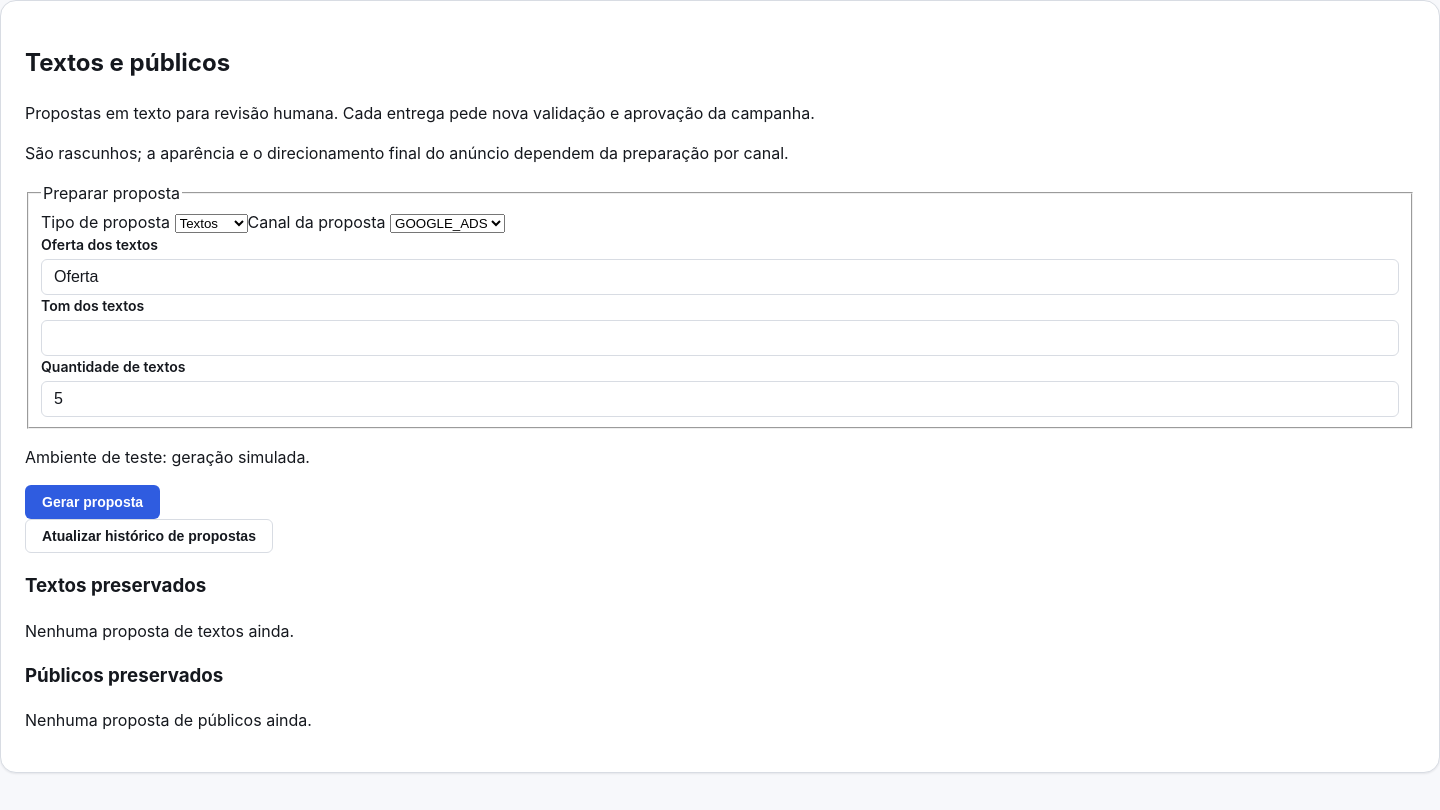
CreativeProposalsPanel › a terminal no-delivery result unlocks a previously uncertain proposal
Expected: the text "Ambiente de teste: geração simulada." is shown, top-left (25, 447), bottom-right (310, 467)
Step 1. Type "direto" into the field labelled "Tom dos textos" → {"x": 720, "y": 338}, box top-left (41, 320), bottom-right (1399, 356)
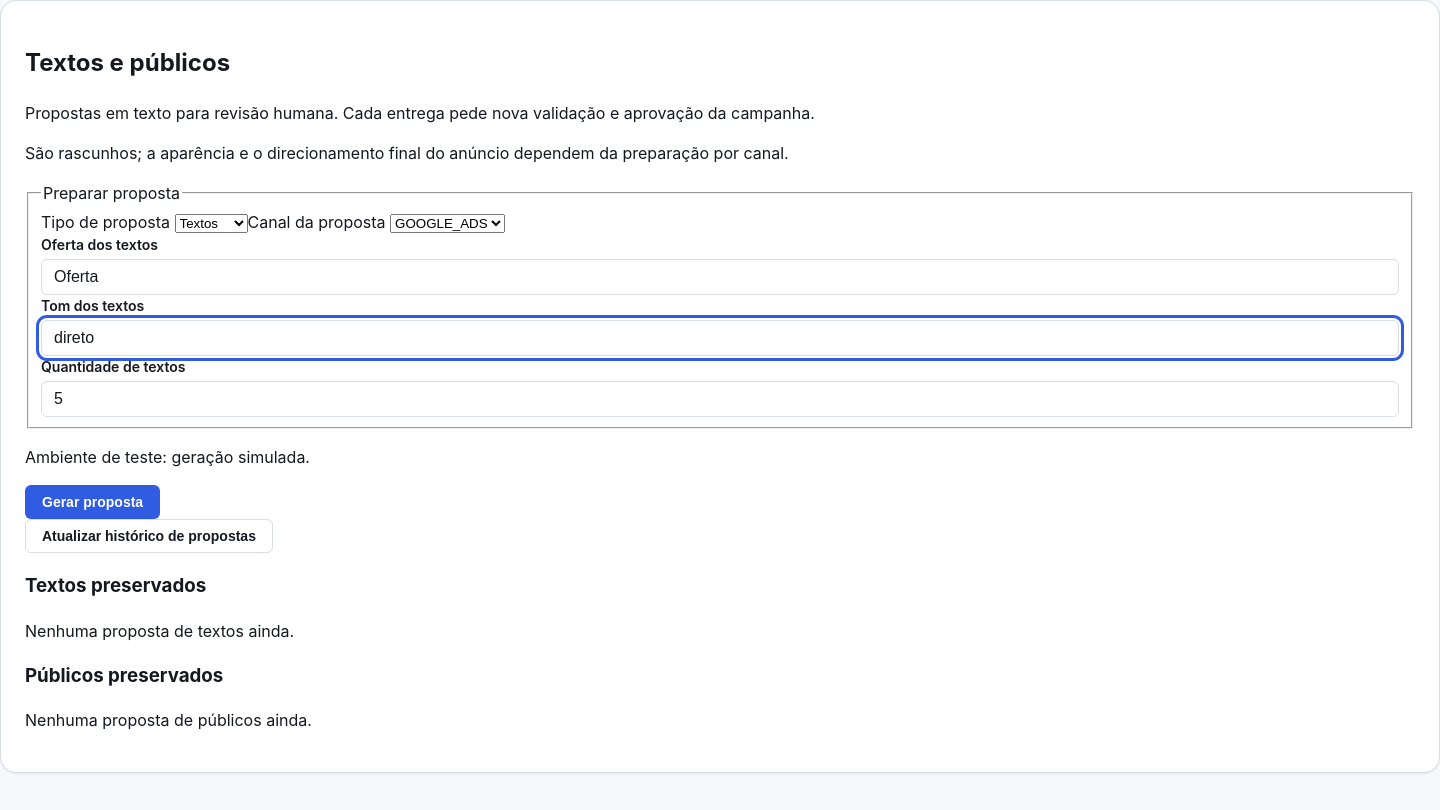
Step 2. Click the button "Gerar proposta" → {"x": 93, "y": 502}, box top-left (25, 485), bottom-right (160, 519)
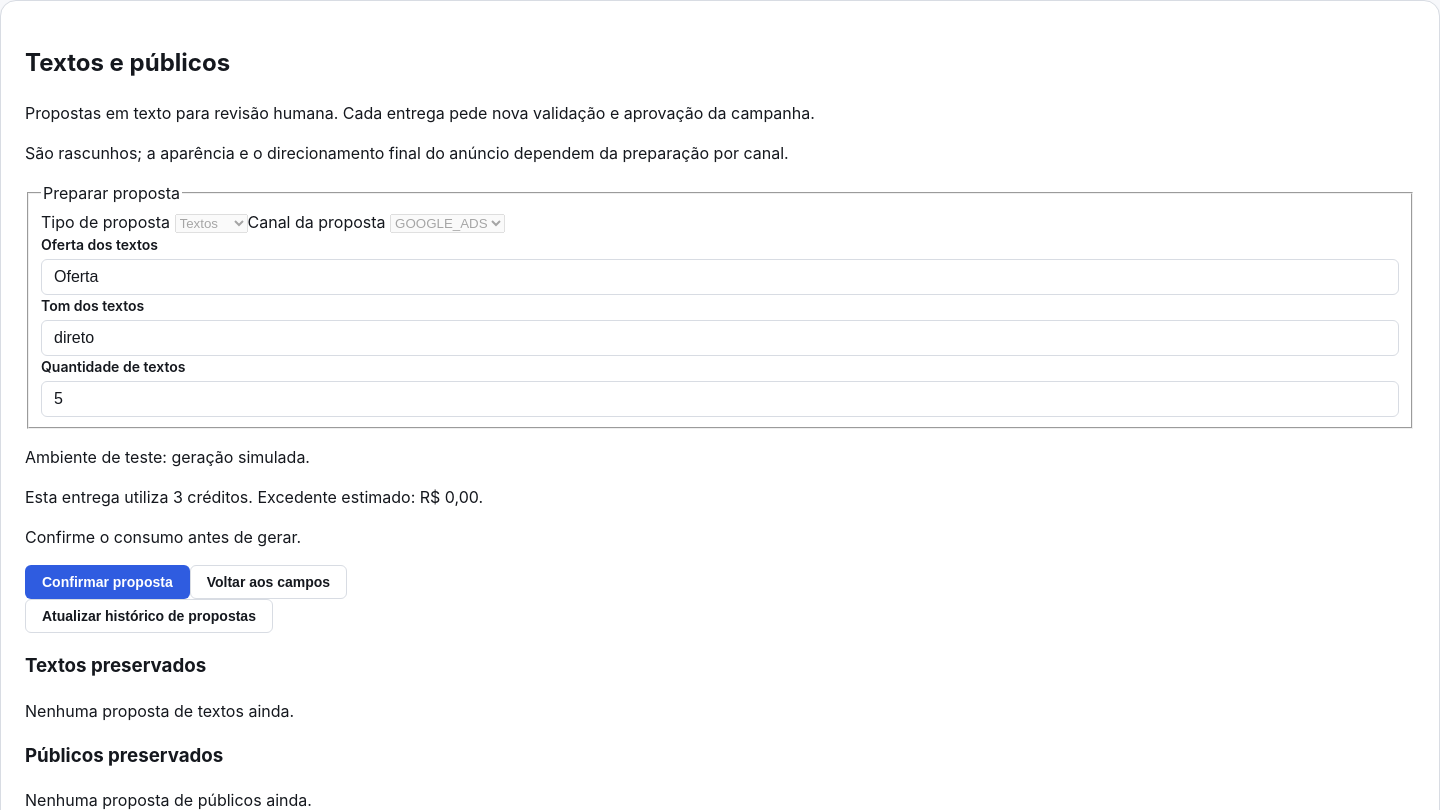
Step 3. Click the button "Confirmar proposta" → {"x": 107, "y": 582}, box top-left (25, 565), bottom-right (190, 599)
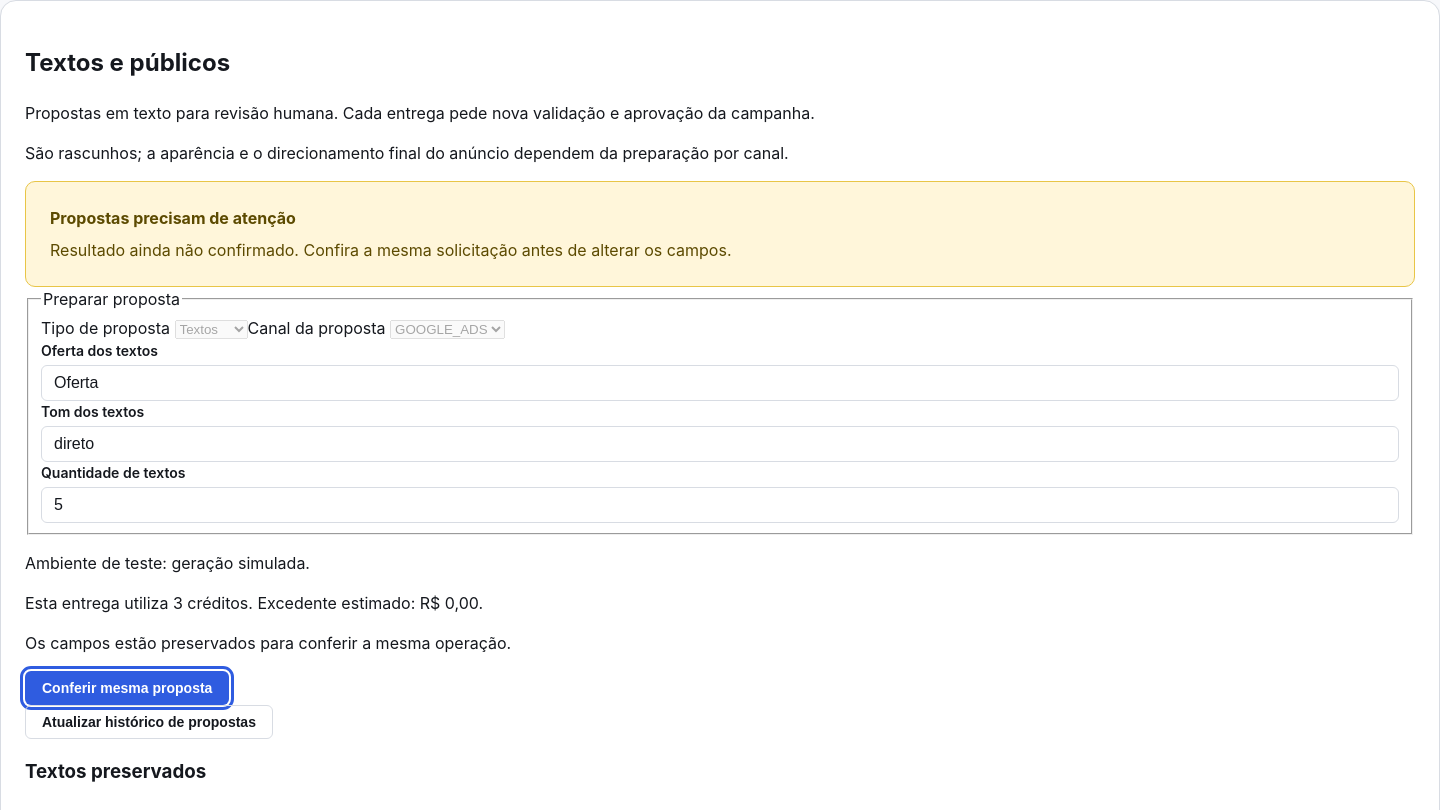
Expected: the button "Conferir mesma proposta" is shown
Step 4. Click the button "Conferir mesma proposta" → {"x": 127, "y": 688}, box top-left (25, 671), bottom-right (229, 705)
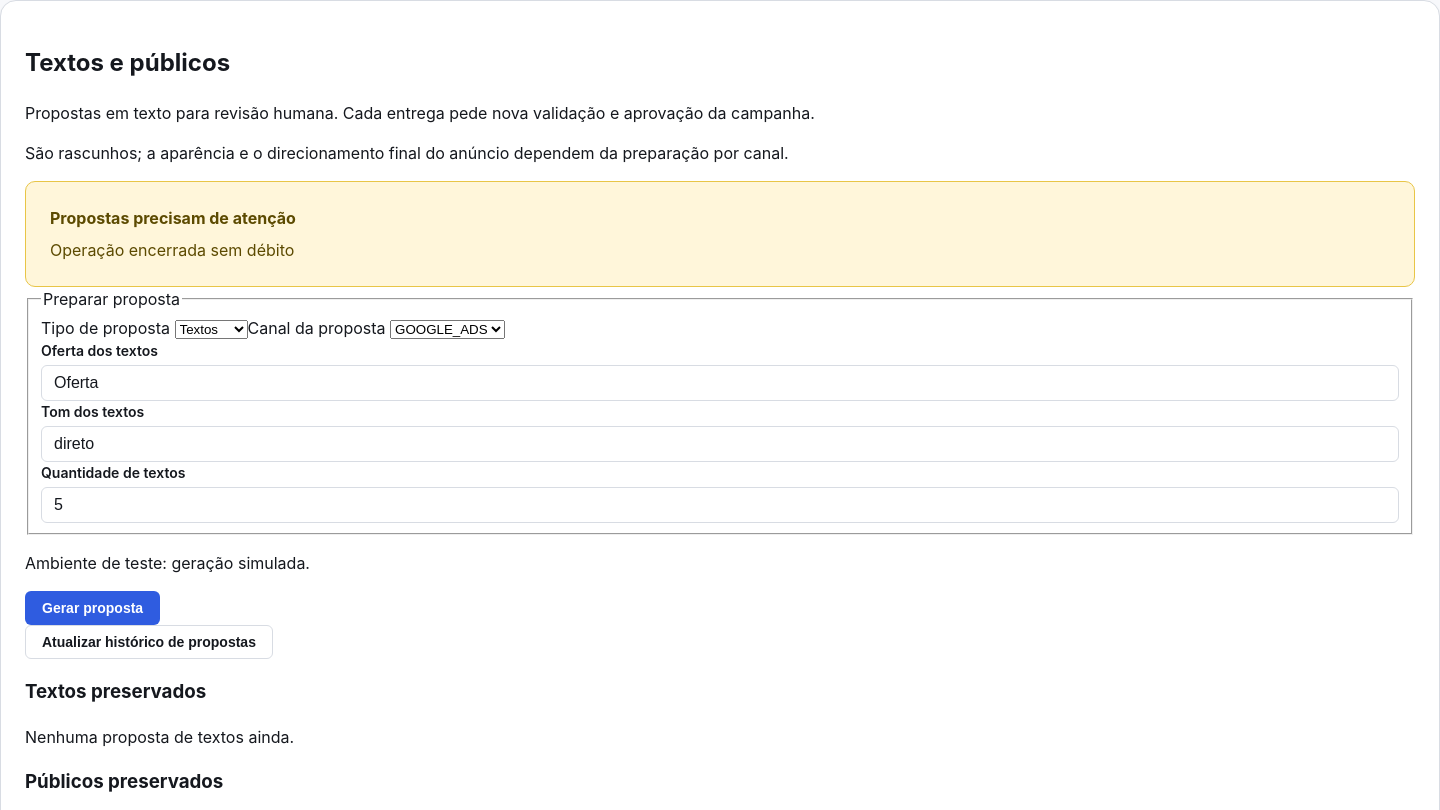
Expected: the field labelled "Oferta dos textos" is enabled, top-left (41, 365), bottom-right (1399, 401)
Expected: the text "Operação encerrada sem débito" is shown, top-left (50, 238), bottom-right (294, 262)
